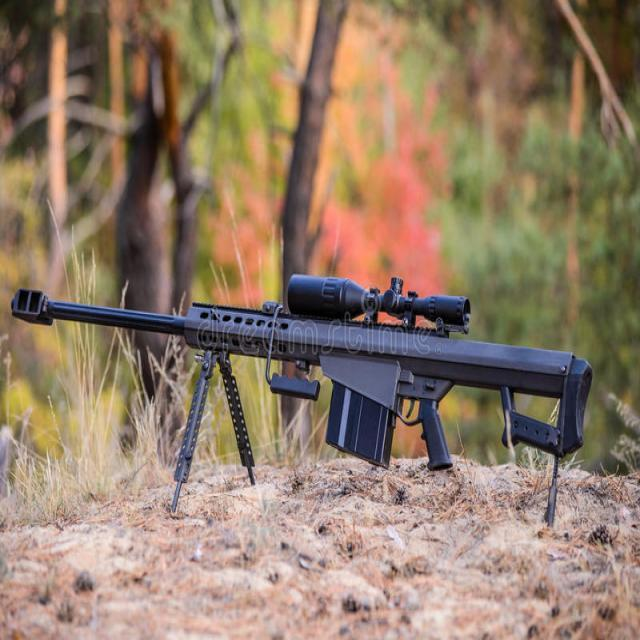rifle: (7, 243, 614, 502)
